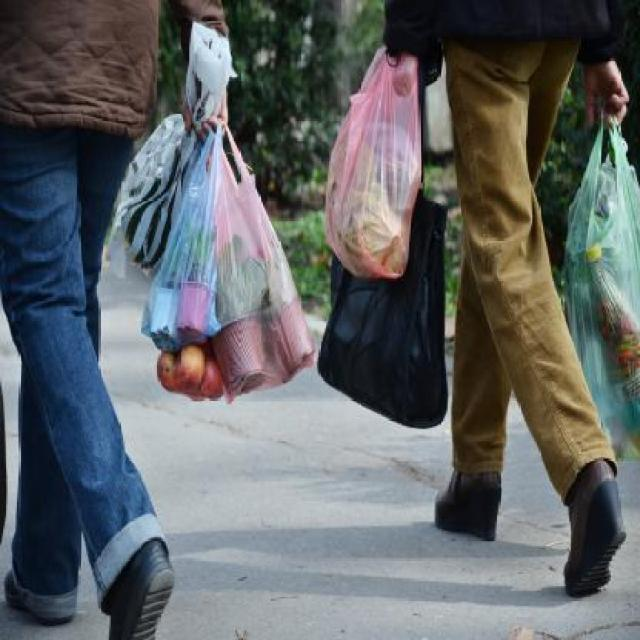plastic bag: (126, 25, 326, 429), (324, 35, 448, 451), (562, 74, 638, 479)
